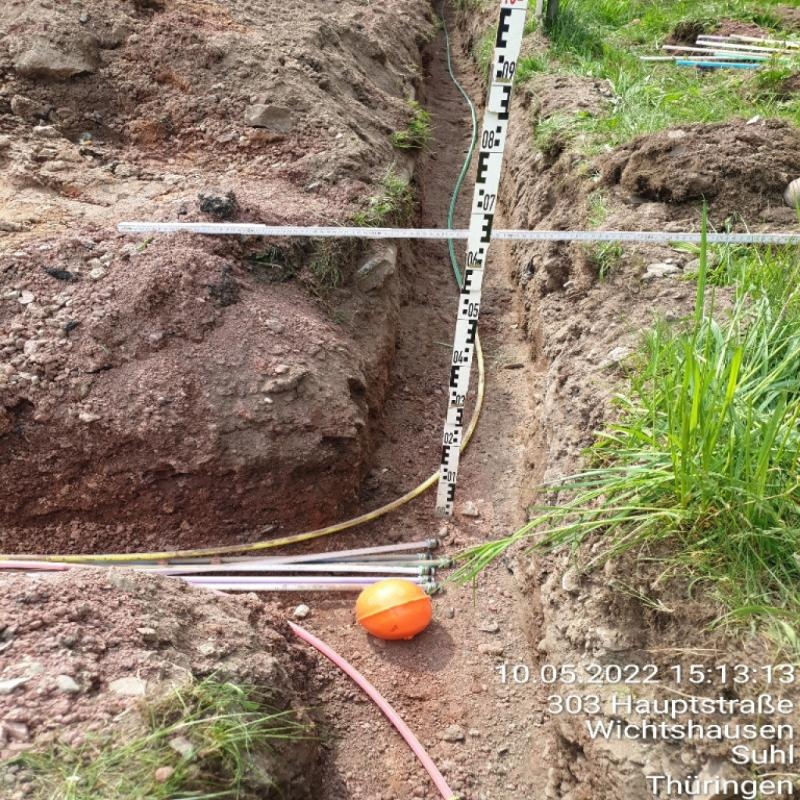Kugelmarker: (356, 580, 430, 640)
